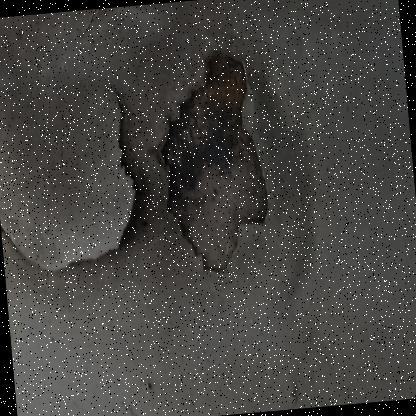Crack: (0, 32, 304, 343), (50, 7, 121, 47), (270, 377, 308, 410)
